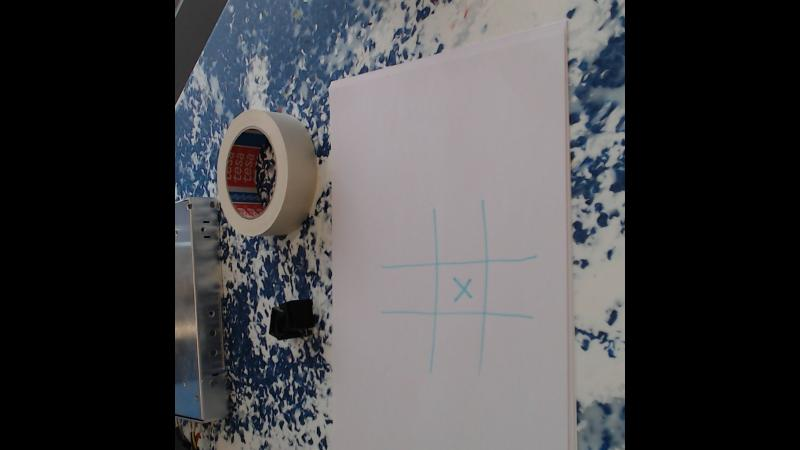X: (443, 269, 481, 307)
grid: (369, 195, 546, 386)
